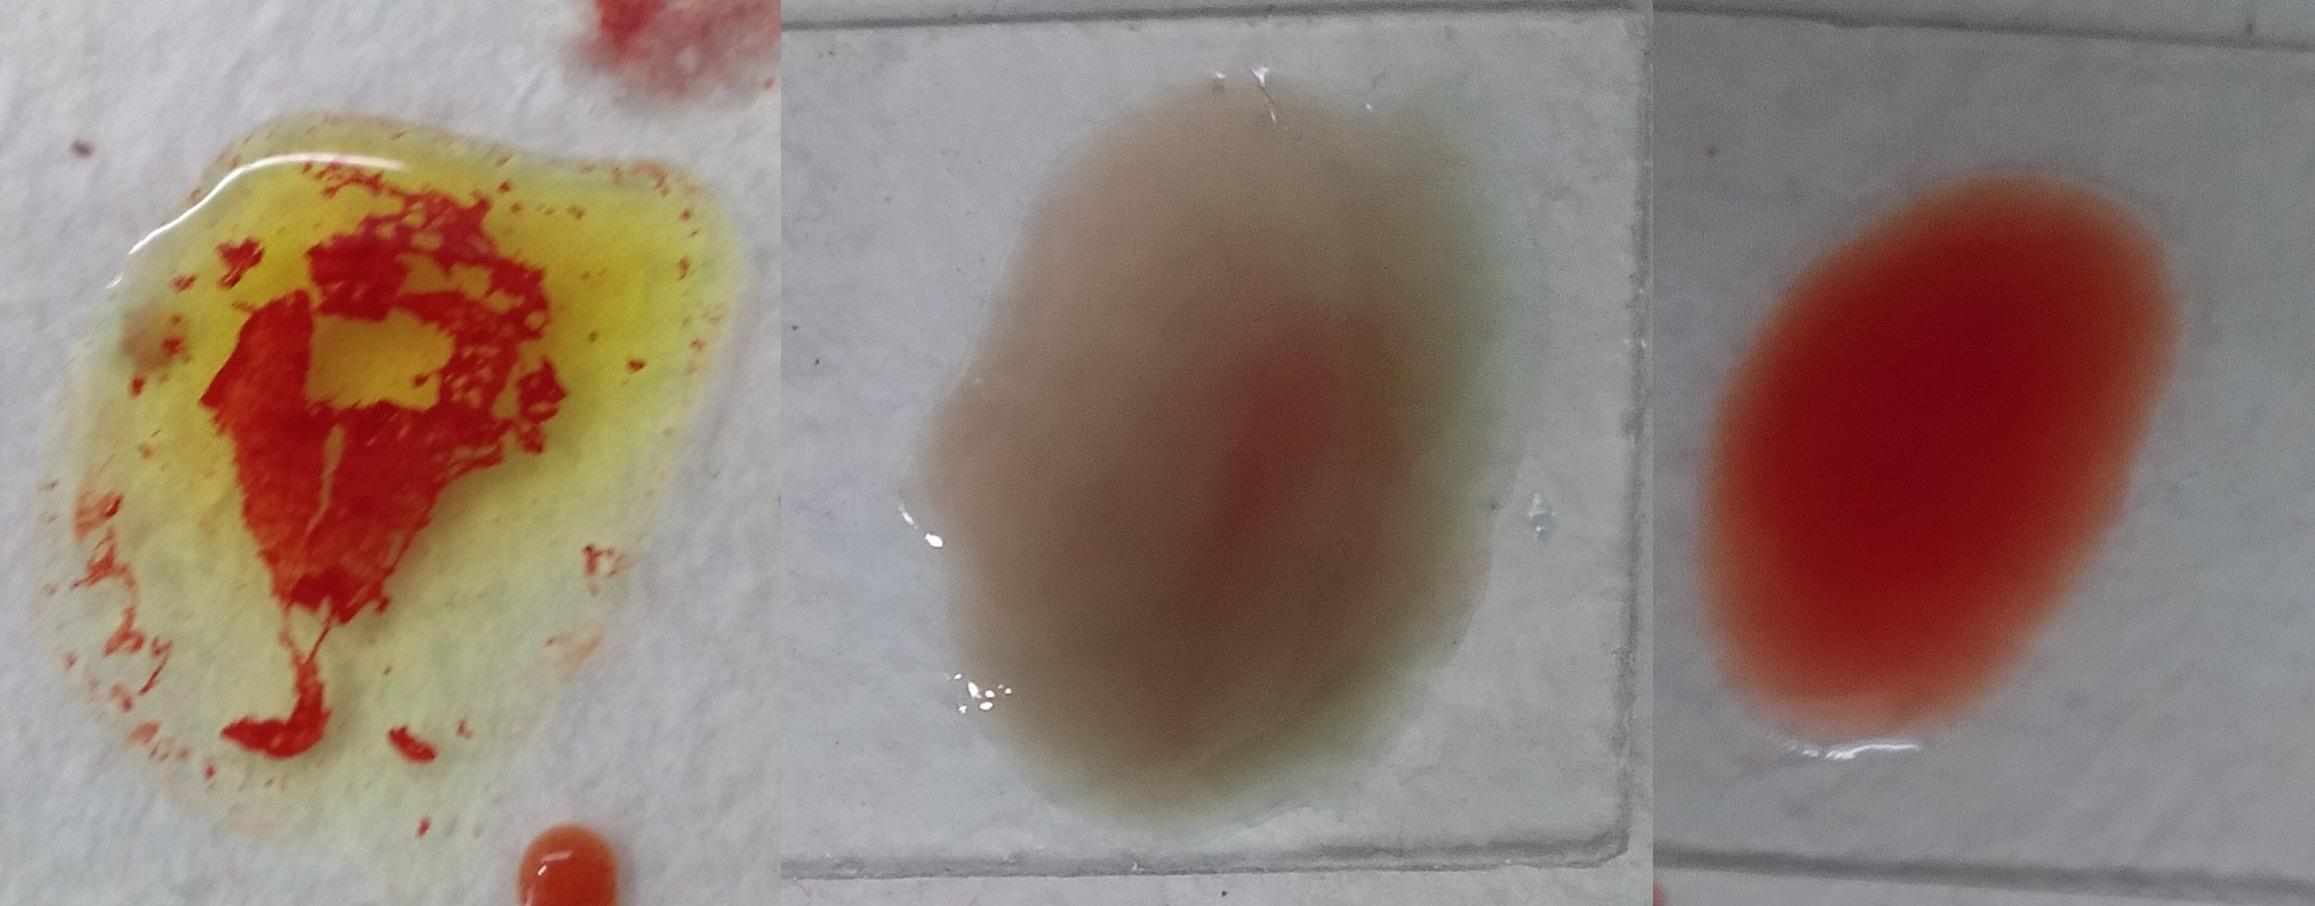B: (93, 125, 675, 795)
